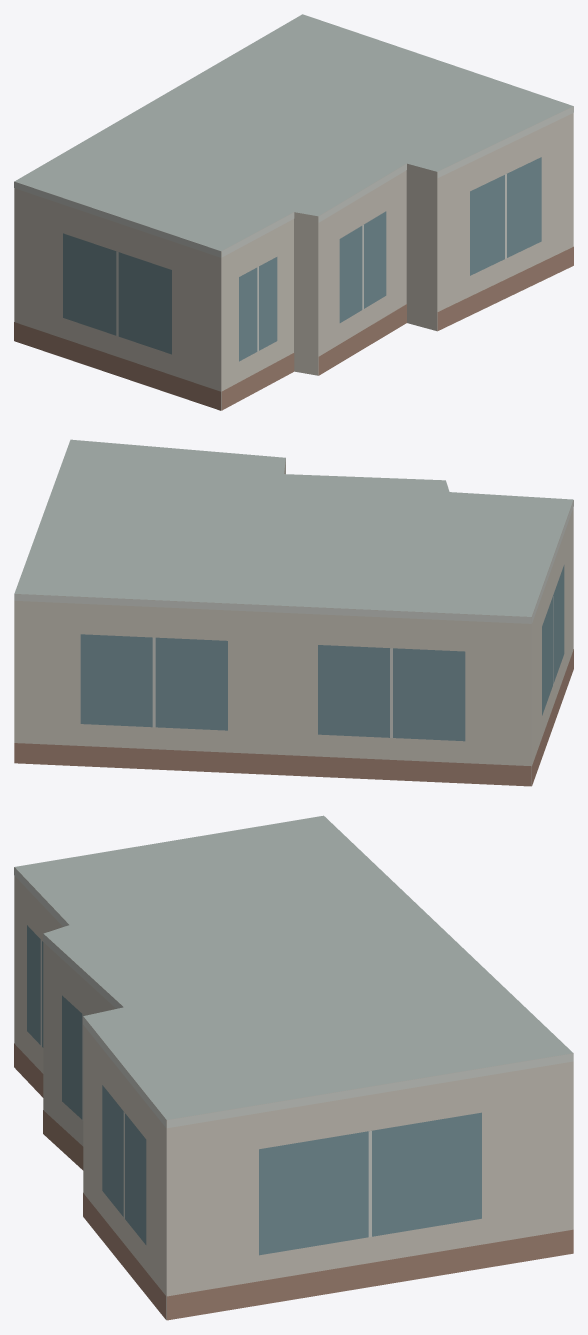
The model's file is survey-upis-33000200.glb.
The picture shows the model from 3 angles, top to bottom: view 1: azimuth 30°, elevation 25°; view 2: azimuth 150°, elevation 25°; view 3: azimuth 270°, elevation 25°; orthographic projection. The views are drawn at different scales.
Visible parts, largest first — view 1: survey-upis-33000200.tmp; view 2: survey-upis-33000200.tmp; view 3: survey-upis-33000200.tmp.
Boxes of the visible parts, bbox=[...] form: survey-upis-33000200.tmp: bbox=[14, 14, 573, 410]; survey-upis-33000200.tmp: bbox=[14, 439, 573, 786]; survey-upis-33000200.tmp: bbox=[14, 815, 573, 1320].
Size of the model in its own units: 9.96 by 3.05 by 7.73.
